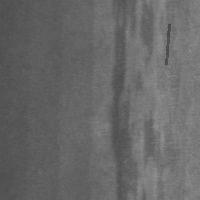inclusion: (110, 1, 165, 198), (164, 22, 171, 66)
